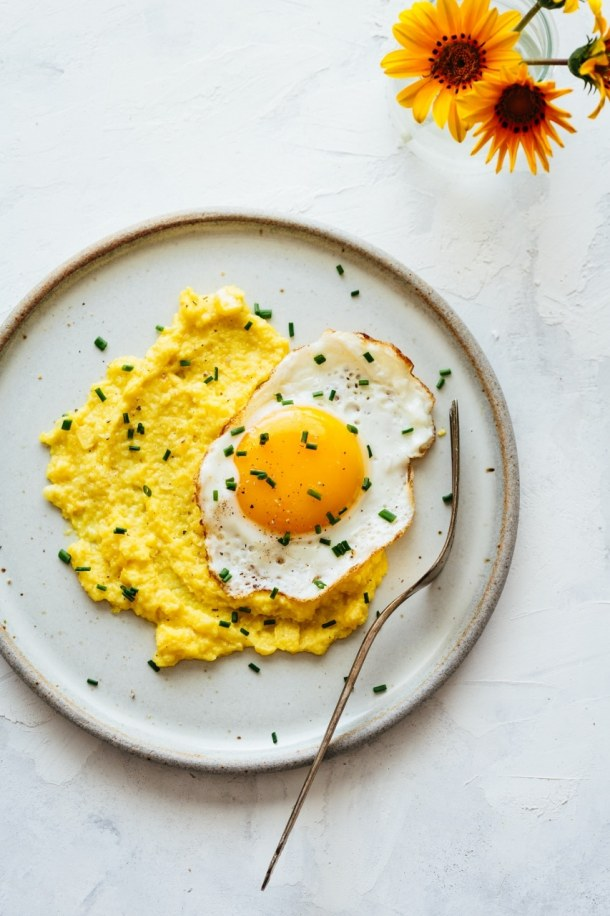fried egg: (229, 338, 375, 561)
